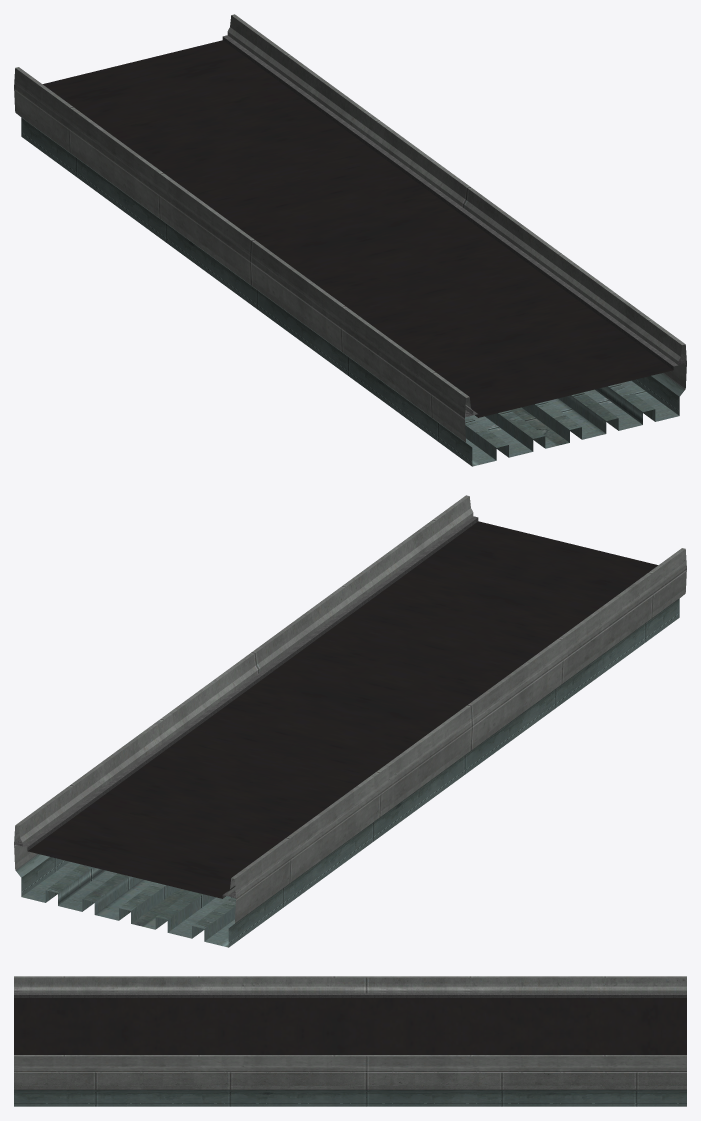
Rendered from RJs_Road Slim 2+2 Bridge Node.fbx.
3 renders of one model, top to bottom at view 1: azimuth 30°, elevation 25°; view 2: azimuth 150°, elevation 25°; view 3: azimuth 270°, elevation 25°, orthographic. The views are drawn at different scales.
Parts seen in each view (by area): view 1: plane; view 2: plane; view 3: plane.
Part boxes in pixels (bbox=[...]): plane: bbox=[14, 14, 686, 466]; plane: bbox=[14, 495, 686, 947]; plane: bbox=[14, 976, 686, 1106].
Size of the model in its own units: 1820 by 550 by 6400.
